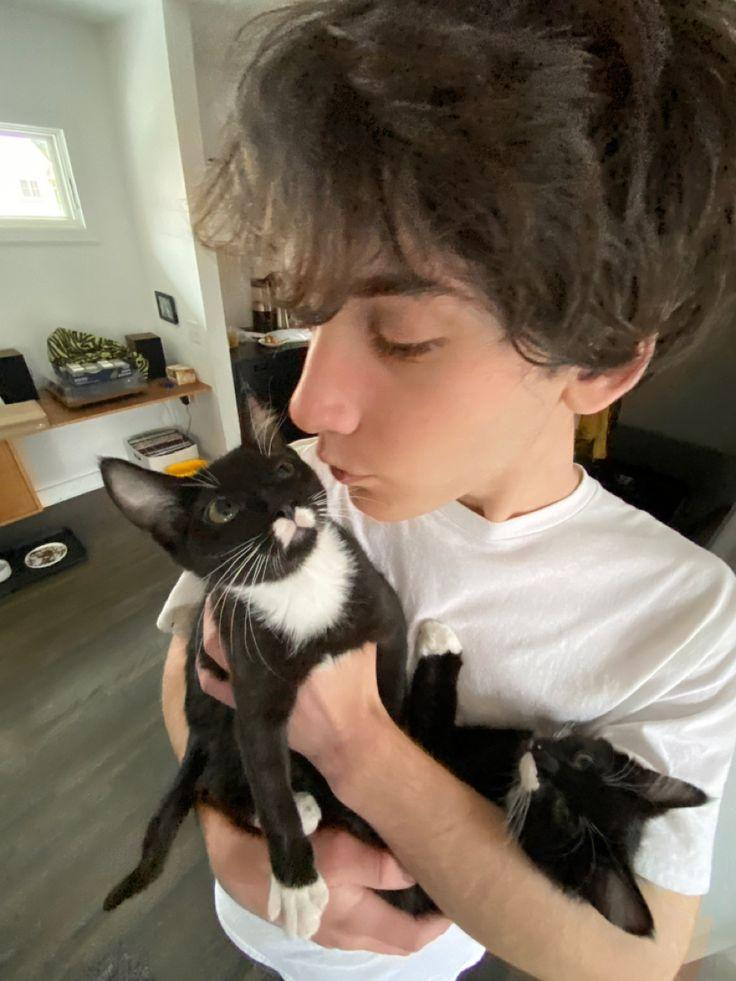kedo: (104, 405, 403, 666)
